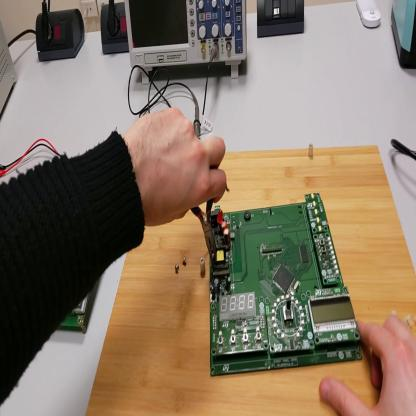hand: (126, 106, 228, 230), (320, 315, 416, 414)
low voltage board: (84, 149, 416, 415), (210, 195, 363, 379)
oscilloscope: (126, 2, 248, 85)
oscilloscope probe tip: (189, 94, 202, 139)
pliers: (192, 197, 217, 261)
power supply: (1, 17, 20, 128)
socket: (35, 5, 86, 64), (99, 1, 131, 56)
welder station: (390, 1, 416, 71)
